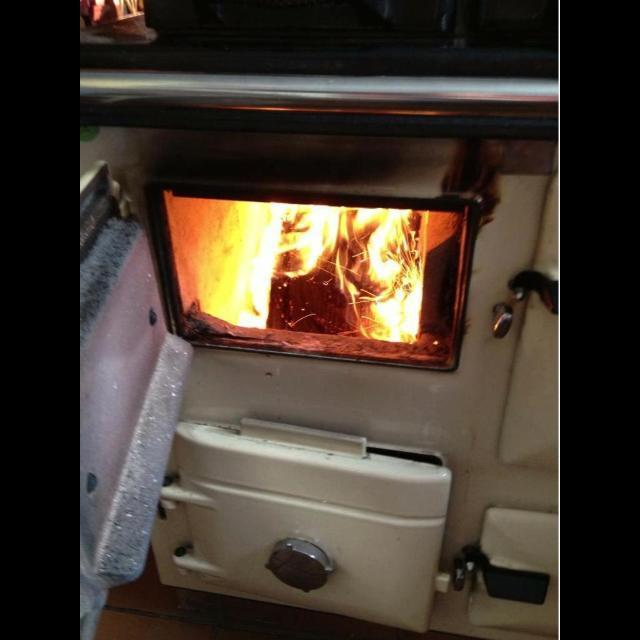Fire: (196, 199, 430, 345)
